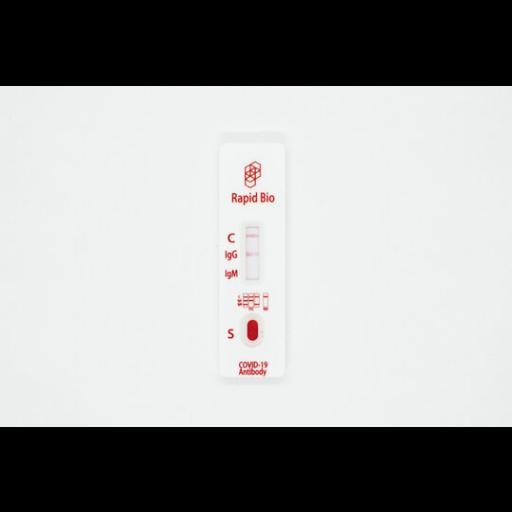Pos: (218, 140, 284, 376)
